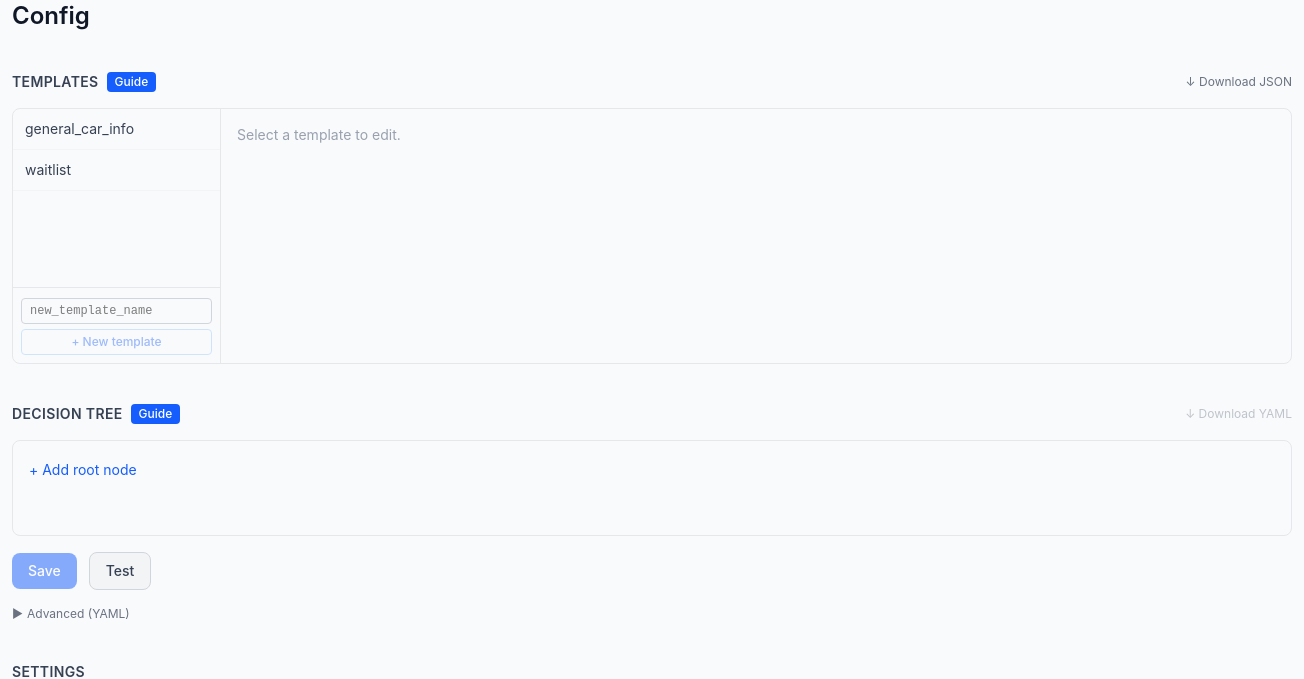
Test case: invalid YAML shows parse error on decision tree save
Expected: the button "general_car_info" is shown, 13,109 -> 220,149
Click the button "▶ Advanced (YAML)": coordinates (71, 614) 12,606 -> 130,622
(page scrolled)
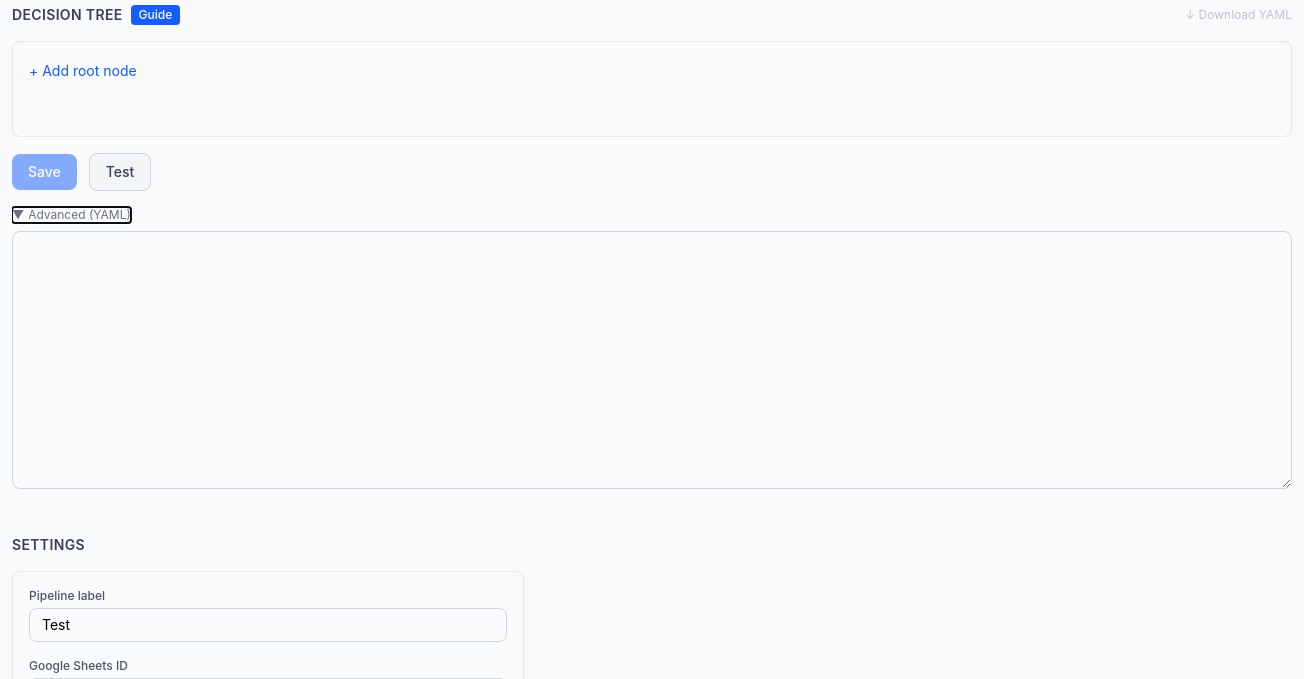
In the text box named "decision tree yaml": coordinates (652, 360) 12,231 -> 1292,489, type ": missing_key"
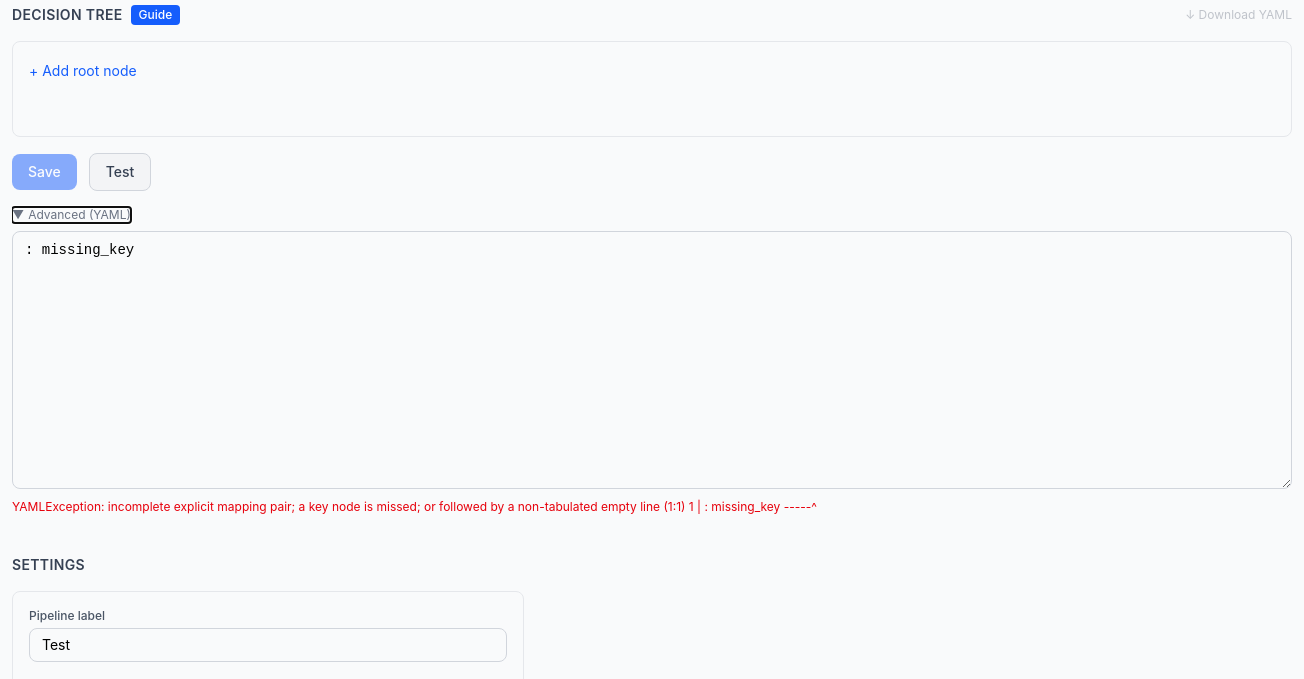
Expected: the text "YAMLException" is shown, 12,499 -> 817,514
